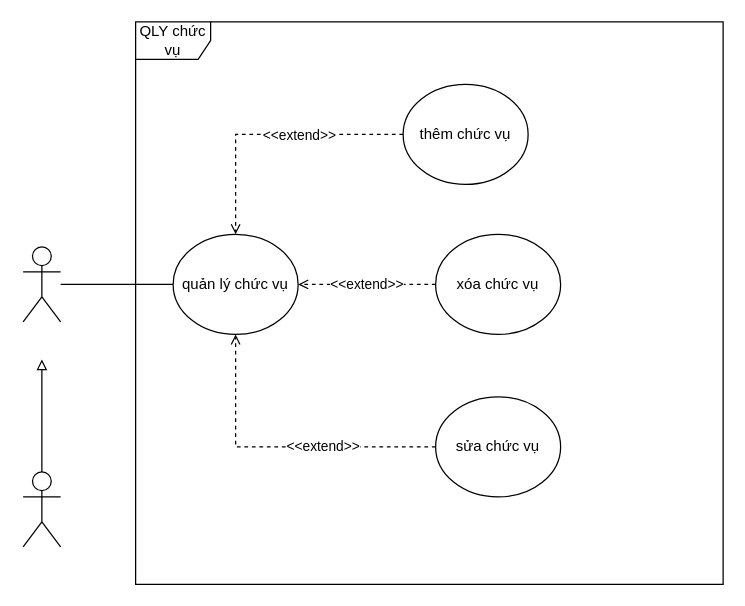
Some shapes in this 745 by 606 pixel diagram are drawn without their labels. Each missing label, with the centre of its shape:
"admin" goes at [41,509].
"HR" goes at [41,284].
